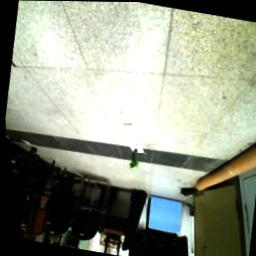herb: (125, 145, 141, 171)
